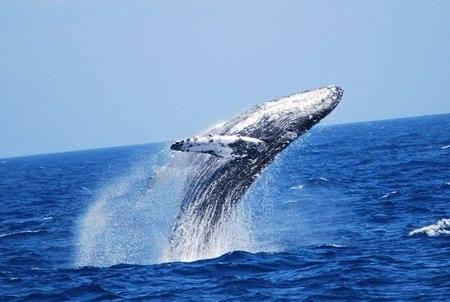fish: (150, 82, 345, 265)
